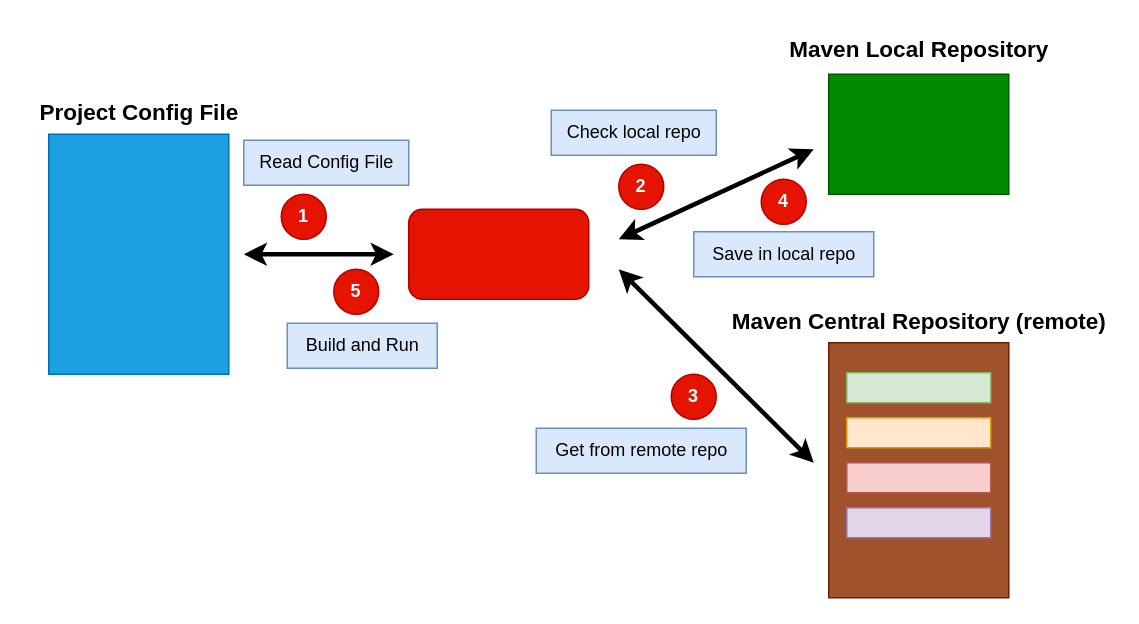
This 1139x624 diagram has some shape labels left out. The centre of each missing label's shape, as x and y in pixels:
(Your Computer): point (918, 133)
Maven: point (498, 253)
Spring, Hibernate, Common Loggings, JSON ... ... ... Developer: point (138, 253)
